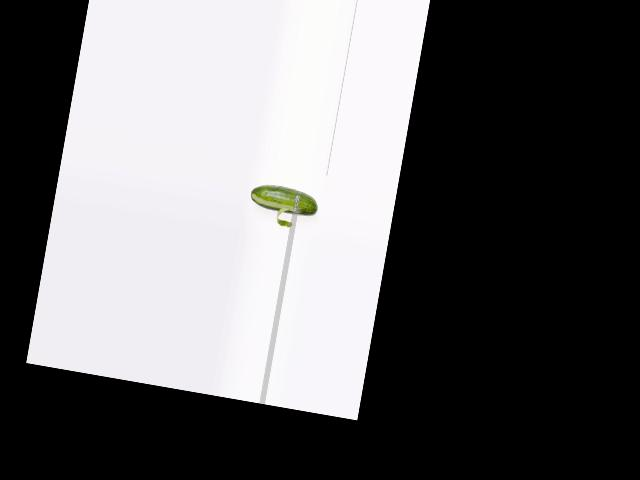cucumber: (248, 181, 320, 219)
